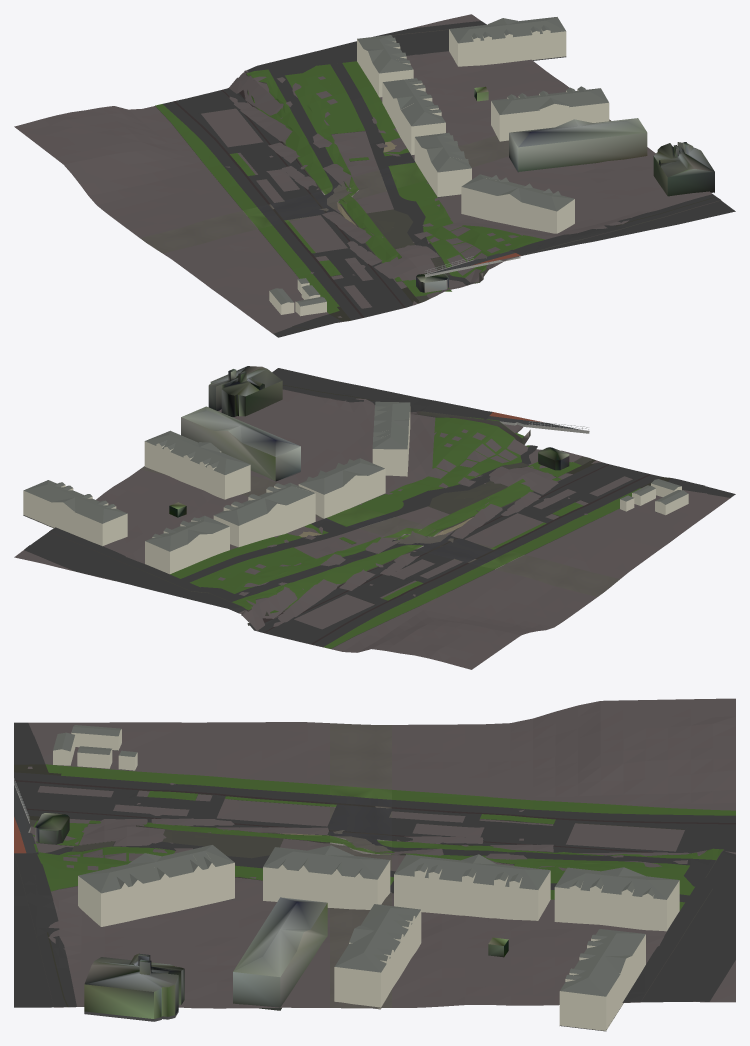
3 renders of one model, top to bottom at view 1: azimuth 30°, elevation 25°; view 2: azimuth 150°, elevation 25°; view 3: azimuth 270°, elevation 25°, orthographic. The views are drawn at different scales.
Parts seen in each view (by area): view 1: c_m13_p03; view 2: c_m13_p03; view 3: c_m13_p03.
Boxes of the visible parts, x1,y1,x2,y2 form: c_m13_p03: (14,14,735,337); c_m13_p03: (14,366,735,669); c_m13_p03: (14,698,735,1031).
Bounding box in the file's own units: 139 × 13.33 × 128.
